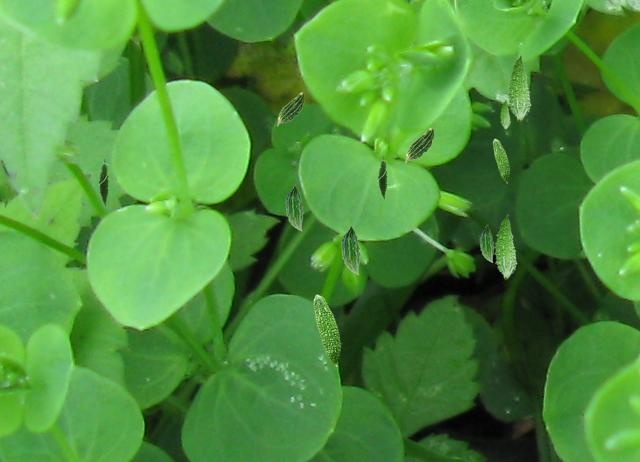ampalaya: (313, 294, 342, 367), (506, 53, 531, 122), (494, 214, 517, 280), (404, 127, 434, 163), (340, 224, 361, 275), (276, 92, 305, 126), (285, 184, 304, 231), (492, 138, 510, 184), (97, 157, 110, 206), (479, 224, 494, 263), (377, 155, 388, 199), (499, 98, 511, 130)
